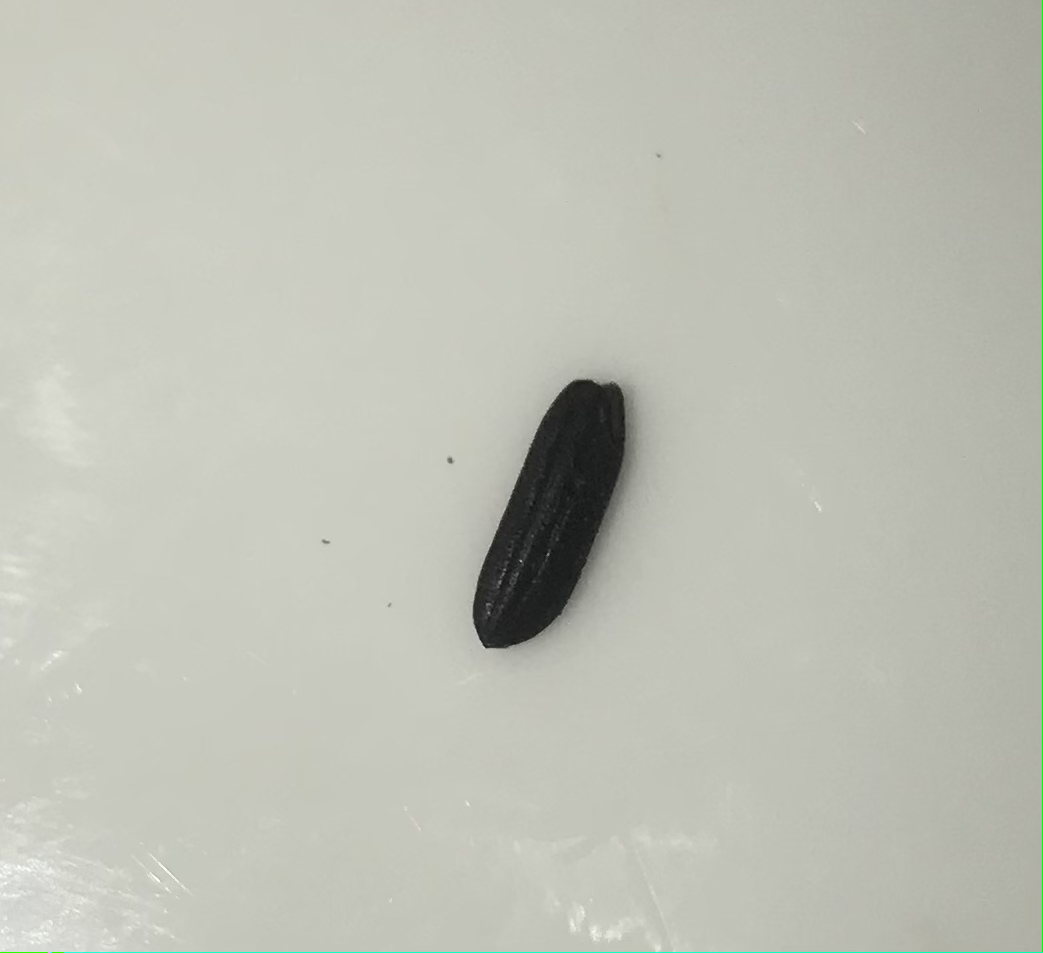Gao lut: (468, 375, 636, 661)
